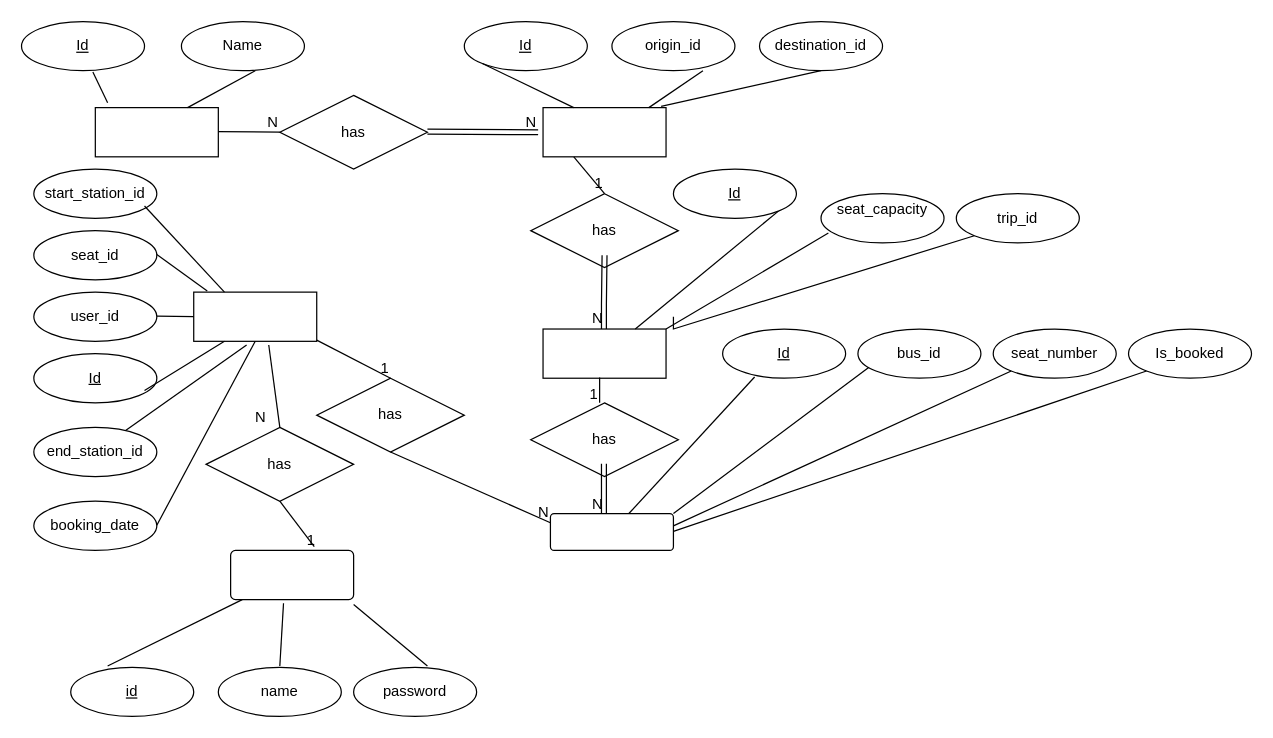
Image size: 1273x738. Some labels were removed from this diagram. Here are the shapes that lost their labels. From the top down, the centre of each, then its label:
At (156,131): "station".
At (604,131): "trip".
At (254,316): "booking".
At (604,353): "bus".
At (611,531): "seat".
At (291,574): "User".
